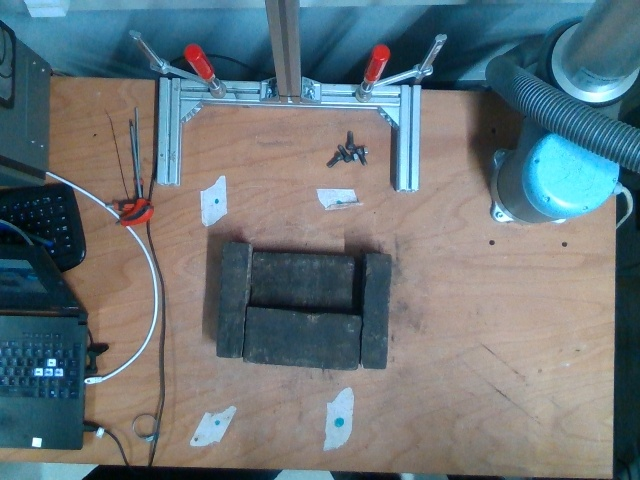brick: (246, 311, 357, 368), (254, 255, 353, 311)
brick-side: (217, 245, 249, 355), (363, 257, 392, 368)
